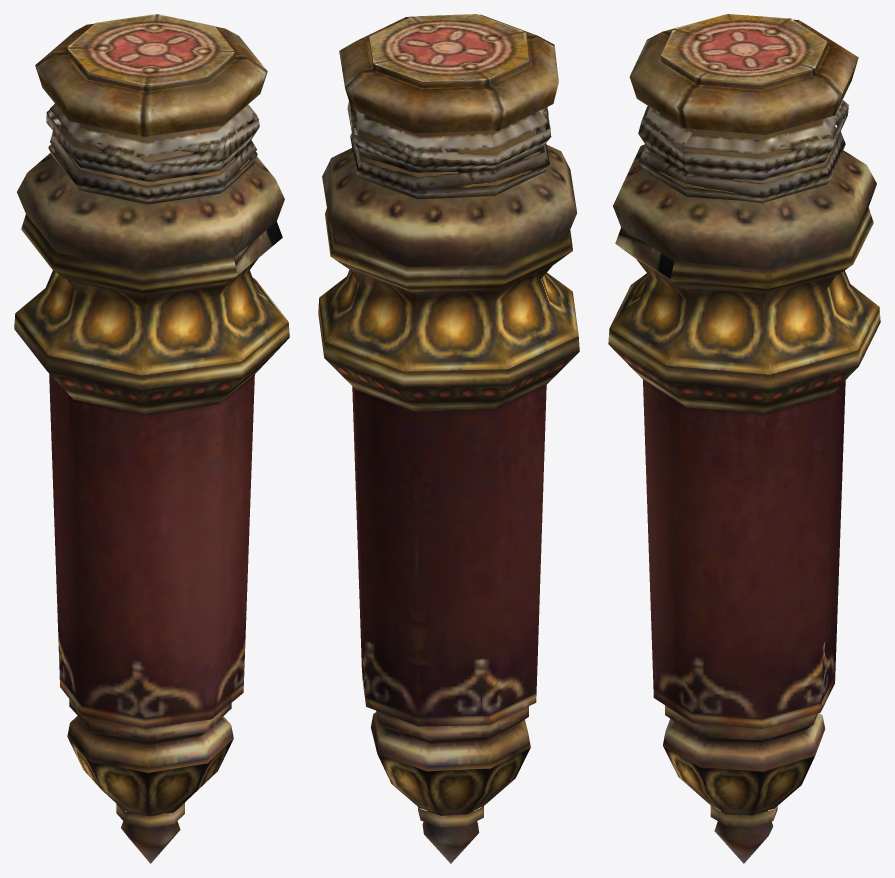
File: cj_luoyang_zhuzi03_53_56_8298out.fbx
3 views of the same model, side by side, from view 1: azimuth 30°, elevation 25°; view 2: azimuth 150°, elevation 25°; view 3: azimuth 270°, elevation 25° (orthographic).
Parts seen in each view (by area): view 1: cj_luoyang_zhuzi03; view 2: cj_luoyang_zhuzi03; view 3: cj_luoyang_zhuzi03.
Part boxes in pixels (x1,y1,x2,y2): cj_luoyang_zhuzi03: (14,14,289,863); cj_luoyang_zhuzi03: (318,14,579,863); cj_luoyang_zhuzi03: (608,14,880,863).
Size of the model in its own units: 3.74 by 12.36 by 3.74.
